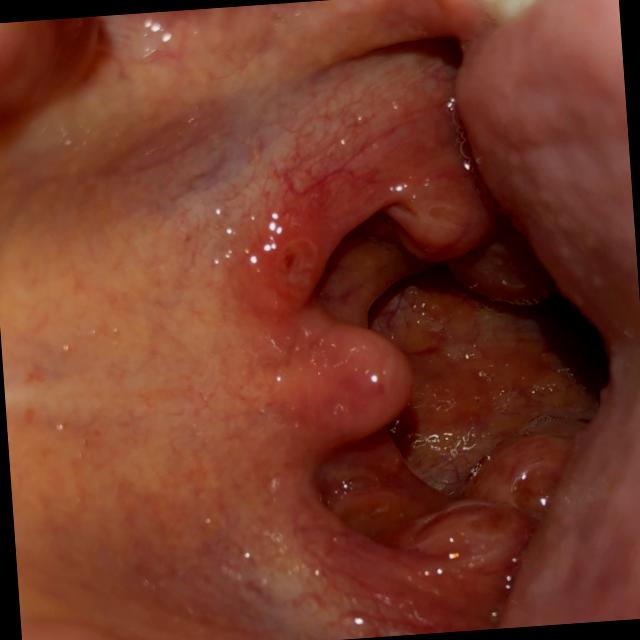Non Pharyngitis: (228, 48, 536, 312), (259, 433, 552, 640)
